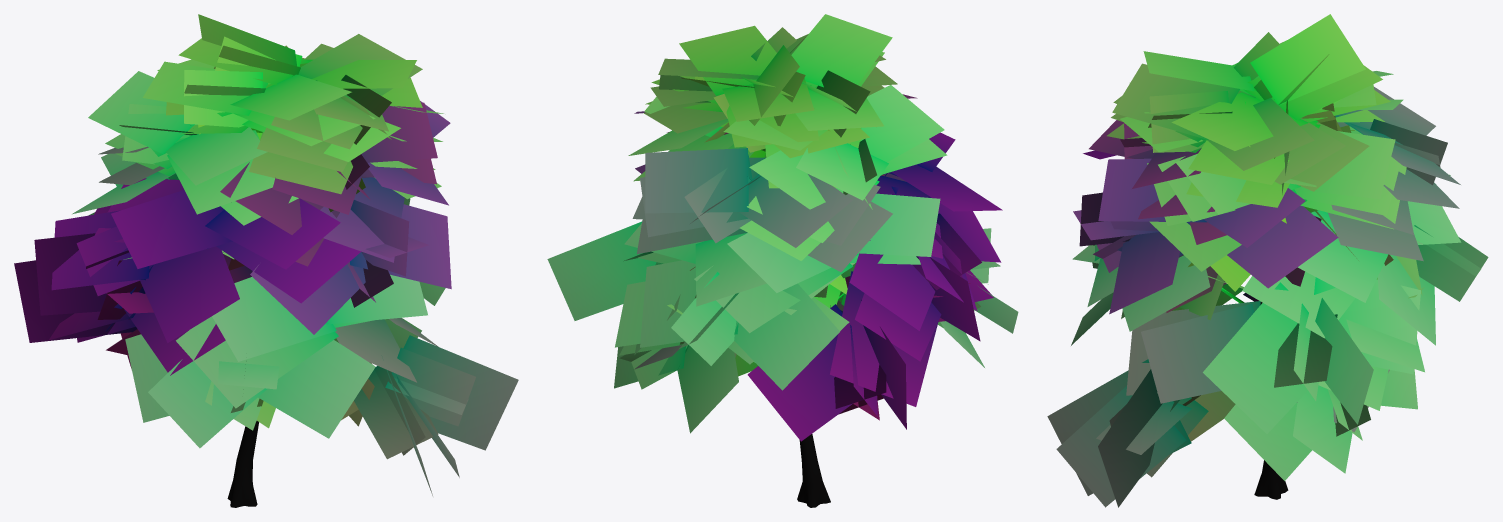
The model's file is Tree_1_1.fbx.
The picture shows the model from 3 angles, left to right: view 1: azimuth 30°, elevation 25°; view 2: azimuth 150°, elevation 25°; view 3: azimuth 270°, elevation 25°; orthographic projection. The views are drawn at different scales.
Parts seen in each view (by area): view 1: _1; view 2: _1; view 3: _1.
Boxes of the visible parts, <box> form: _1: <box>14,14,518,507</box>; _1: <box>547,14,1018,507</box>; _1: <box>1047,14,1488,507</box>.
Size of the model in its own units: 1261 by 1386 by 1176.
